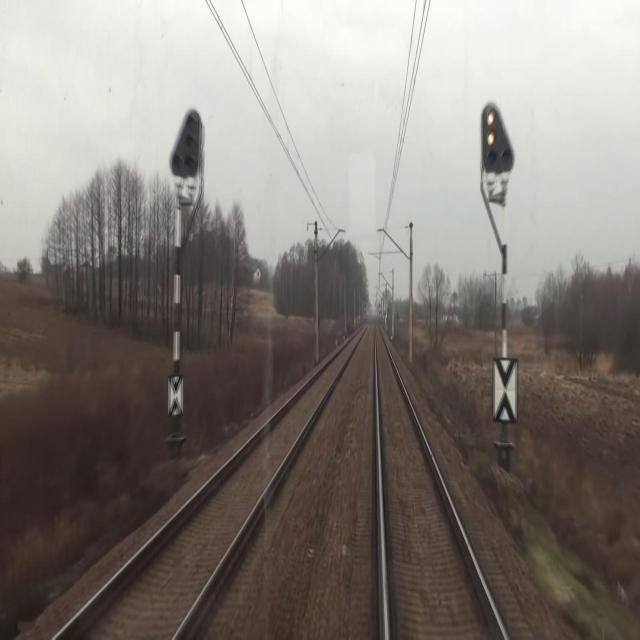rail-track: (58, 328, 364, 639), (376, 322, 504, 639)
